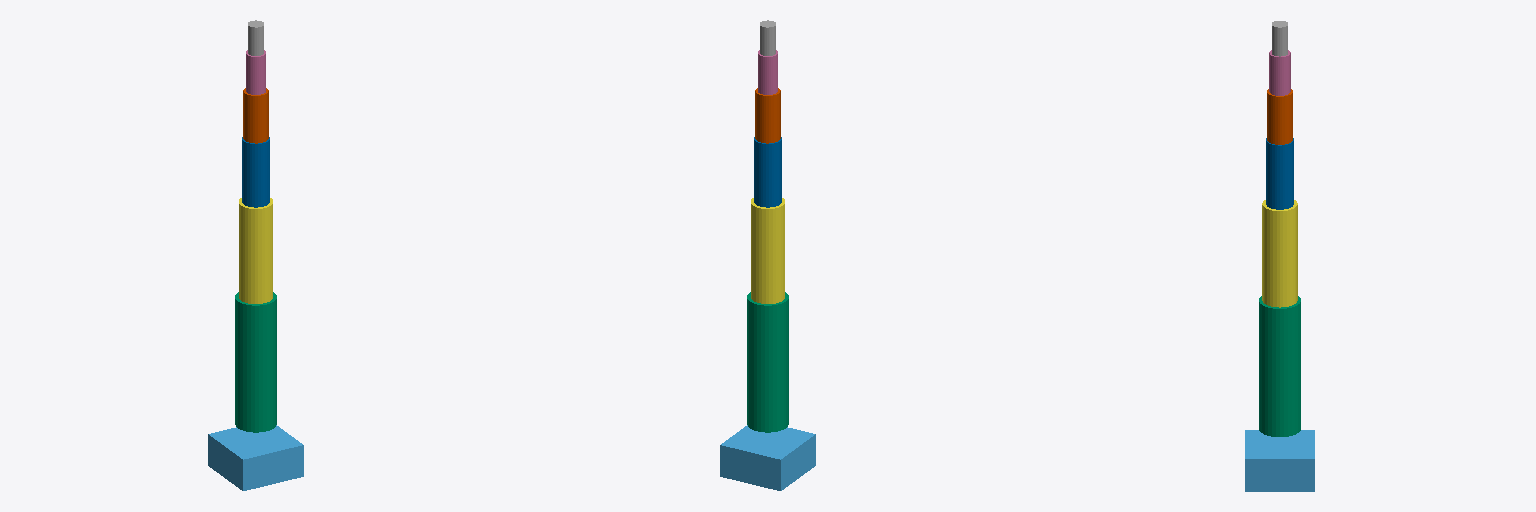
robot.urdf — mycobot_csv_test_six:
<?xml version="1.0"?>
<robot name="mycobot_csv_test_six">

  <link name="world"/>

  <link name="base_link">
    <visual><geometry><box size="0.1 0.1 0.05"/></geometry></visual>
  </link>

  <joint name="base_fixed" type="fixed">
    <parent link="world"/>
    <child  link="base_link"/>
  </joint>

  <link name="link_1">
    <visual><geometry><cylinder length="0.2" radius="0.03"/></geometry>
    <origin xyz="0 0 0.1"/></visual>
  </link>

  <joint name="joint_1" type="continuous">
    <parent link="base_link"/>
    <child  link="link_1"/>
    <origin xyz="0 0 0.05" rpy="0 0 0"/>
    <axis xyz="0 0 1"/>
    <limit effort="100" velocity="2.0"/>
  </joint>

  <link name="link_2">
    <visual><geometry><cylinder length="0.15" radius="0.025"/></geometry>
    <origin xyz="0 0 0.075"/></visual>
  </link>

  <joint name="joint_2" type="continuous">
    <parent link="link_1"/>
    <child  link="link_2"/>
    <origin xyz="0 0 0.2" rpy="0 0 0"/>
    <axis xyz="0 1 0"/>
    <limit effort="100" velocity="2.0"/>
  </joint>

  <link name="link_3">
    <visual><geometry><cylinder length="0.10" radius="0.020"/></geometry>
    <origin xyz="0 0 0.05"/></visual>
  </link>

  <joint name="joint_3" type="continuous">
    <parent link="link_2"/>
    <child  link="link_3"/>
    <origin xyz="0 0 0.15" rpy="0 0 0"/>
    <axis xyz="0 1 0"/>
    <limit effort="100" velocity="2.0"/>
  </joint>

  <link name="link_4">
    <visual><geometry><cylinder length="0.075" radius="0.018"/></geometry>
    <origin xyz="0 0 0.0375"/></visual>
  </link>

  <joint name="joint_4" type="continuous">
    <parent link="link_3"/>
    <child  link="link_4"/>
    <origin xyz="0 0 0.10" rpy="0 0 0"/>
    <axis xyz="0 1 0"/>
    <limit effort="100" velocity="2.0"/>
  </joint>

  <link name="link_5">
    <visual><geometry><cylinder length="0.06" radius="0.015"/></geometry>
    <origin xyz="0 0 0.03"/></visual>
  </link>

  <joint name="joint_5" type="continuous">
    <parent link="link_4"/>
    <child  link="link_5"/>
    <origin xyz="0 0 0.075" rpy="0 0 0"/>
    <axis xyz="1 0 0"/>
    <limit effort="100" velocity="2.0"/>
  </joint>

  <link name="link_6">
    <visual><geometry><cylinder length="0.045" radius="0.012"/></geometry>
    <origin xyz="0 0 0.0225"/></visual>
  </link>

  <joint name="joint_6" type="continuous">
    <parent link="link_5"/>
    <child  link="link_6"/>
    <origin xyz="0 0 0.06" rpy="0 0 0"/>
    <axis xyz="0 0 1"/>
    <limit effort="100" velocity="2.0"/>
  </joint>

  <ros2_control name="MyCobotCSVSixJoints" type="system">

    <hardware>
      <plugin>mycobot_csv/MyCobotCSV</plugin>
      <param name="ifname">enx00e04c360d9d</param>
    </hardware>

    <joint name="joint_1">
      <param name="slave_index">1</param>
      <param name="counts_per_rad">2085932.0</param>
      <command_interface name="velocity">
        <param name="min">-2.0</param>
        <param name="max"> 2.0</param>
      </command_interface>
      <state_interface name="position"/>
      <state_interface name="velocity"/>
    </joint>

    <joint name="joint_2">
      <param name="slave_index">2</param>
      <param name="counts_per_rad">2085932.0</param>
      <command_interface name="velocity">
        <param name="min">-2.0</param>
        <param name="max"> 2.0</param>
      </command_interface>
      <state_interface name="position"/>
      <state_interface name="velocity"/>
    </joint>

    <joint name="joint_3">
      <param name="slave_index">3</param>
      <param name="counts_per_rad">2085932.0</param>
      <command_interface name="velocity">
        <param name="min">-2.0</param>
        <param name="max"> 2.0</param>
      </command_interface>
      <state_interface name="position"/>
      <state_interface name="velocity"/>
    </joint>

    <!-- Wrist motors are wired in a non-monotonic daisy-chain order:
         bus slaves 4,5,6 physically drive joints 5,6,4 respectively.
         slave_index below maps each URDF joint to the bus slave that
         physically actuates it. Verified empirically via per-slave
         spot-test on 2026-05-10. -->
    <joint name="joint_4">
      <param name="slave_index">6</param>
      <param name="counts_per_rad">2085932.0</param>
      <command_interface name="velocity">
        <param name="min">-2.0</param>
        <param name="max"> 2.0</param>
      </command_interface>
      <state_interface name="position"/>
      <state_interface name="velocity"/>
    </joint>

    <joint name="joint_5">
      <param name="slave_index">4</param>
      <param name="counts_per_rad">2085932.0</param>
      <command_interface name="velocity">
        <param name="min">-2.0</param>
        <param name="max"> 2.0</param>
      </command_interface>
      <state_interface name="position"/>
      <state_interface name="velocity"/>
    </joint>

    <joint name="joint_6">
      <param name="slave_index">5</param>
      <param name="counts_per_rad">2085932.0</param>
      <command_interface name="velocity">
        <param name="min">-2.0</param>
        <param name="max"> 2.0</param>
      </command_interface>
      <state_interface name="position"/>
      <state_interface name="velocity"/>
    </joint>

  </ros2_control>

</robot>

--- Facts derived from the render (not from the file) ---
3 views of the same robot in one strip: view 1: azimuth 30°, elevation 25°; view 2: azimuth 150°, elevation 25°; view 3: azimuth 270°, elevation 25° (orthographic).
Model mycobot_csv_test_six with 8 links and 7 joints (6 continuous, 1 fixed), rooted at world, posed all joints at 0.
Links seen in each view (by area): view 1: link_1, base_link, link_2, link_3, link_4, link_5, link_6; view 2: link_1, base_link, link_2, link_3, link_4, link_5, link_6; view 3: link_1, base_link, link_2, link_3, link_4, link_5, link_6.
Link boxes in pixels (x1,y1,x2,y2): link_1: (235, 292, 276, 432); base_link: (208, 425, 303, 490); link_2: (239, 198, 272, 303); link_3: (242, 137, 269, 207); link_4: (243, 88, 268, 143); link_5: (246, 50, 265, 94); link_6: (248, 20, 263, 55); link_1: (747, 292, 788, 432); base_link: (720, 425, 815, 490); link_2: (751, 198, 784, 303); link_3: (754, 137, 781, 207); link_4: (755, 88, 780, 143); link_5: (758, 50, 777, 94); link_6: (760, 20, 775, 55); link_1: (1259, 296, 1300, 436); base_link: (1245, 430, 1314, 491); link_2: (1262, 200, 1297, 307); link_3: (1266, 138, 1293, 209); link_4: (1267, 89, 1292, 144); link_5: (1269, 50, 1290, 95); link_6: (1272, 21, 1287, 56).
Bounding box of the posed robot: 0.1 × 0.1 × 0.705 m (x, y, z).
Geometry: primitives only (box / cylinder / sphere), no mesh files.
